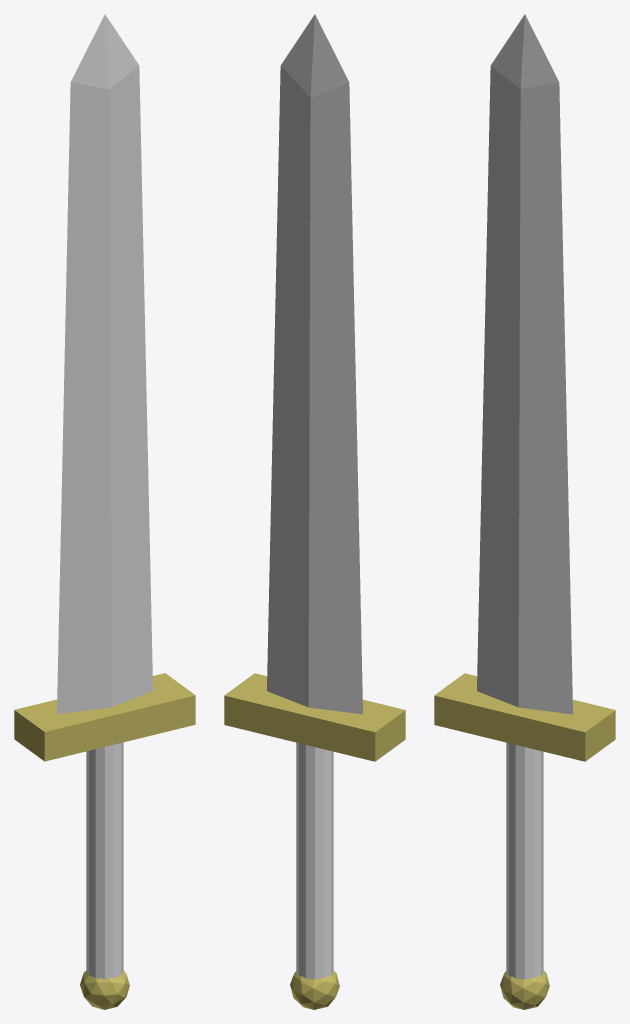
Rendered from Basic Sword.fbx.
3 renders of one model, left to right at view 1: azimuth 30°, elevation 25°; view 2: azimuth 150°, elevation 25°; view 3: azimuth 330°, elevation 25°, orthographic.
Visible parts, largest first — view 1: Sword; view 2: Sword; view 3: Sword.
Boxes of the visible parts, left/top/right/bottom form: Sword: left=14, top=14, right=195, bottom=1009; Sword: left=224, top=14, right=405, bottom=1009; Sword: left=434, top=14, right=615, bottom=1009.
Size of the model in its own units: 14.86 by 93.44 by 5.2.
